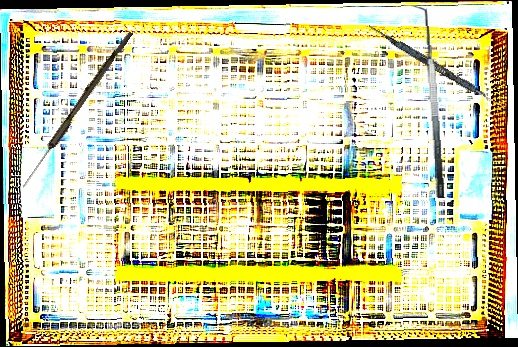Spatula Surgical: (365, 23, 513, 114), (410, 4, 447, 200)
Surgical Spoon: (19, 28, 134, 191)
